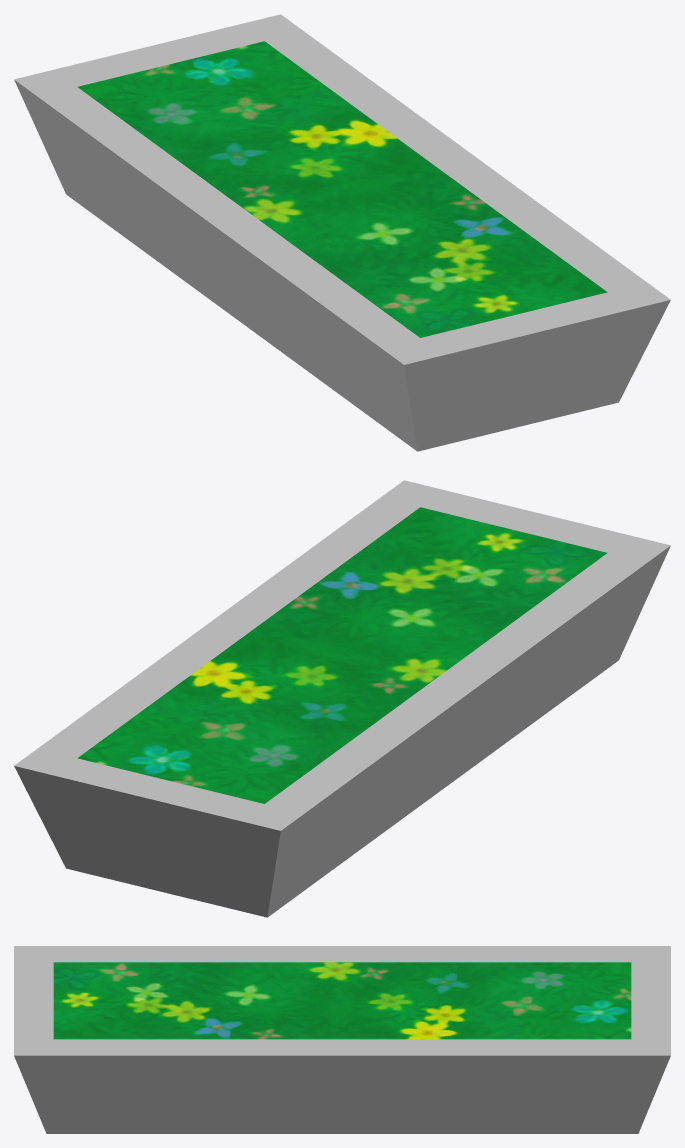
File: Plant02_b02.FBX
The picture shows the model from 3 angles, top to bottom: view 1: azimuth 30°, elevation 25°; view 2: azimuth 150°, elevation 25°; view 3: azimuth 270°, elevation 25°; orthographic projection. The views are drawn at different scales.
Visible parts, largest first — view 1: Plant02_b02; view 2: Plant02_b02; view 3: Plant02_b02.
Part boxes in pixels (x1=…): Plant02_b02: x1=14, y1=14, x2=670, y2=451; Plant02_b02: x1=14, y1=480, x2=670, y2=917; Plant02_b02: x1=14, y1=946, x2=670, y2=1133.
Bounding box in the file's own units: 121 × 47.09 × 306.
